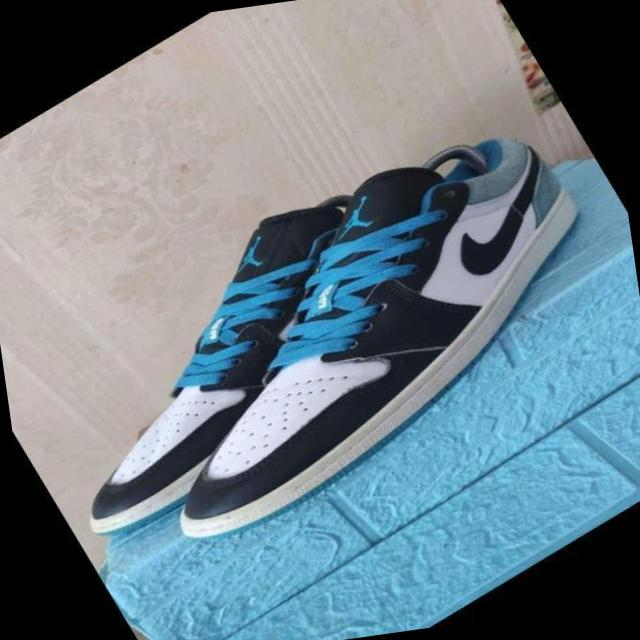nike_fake_jordan: (49, 76, 640, 577), (0, 135, 511, 554)
